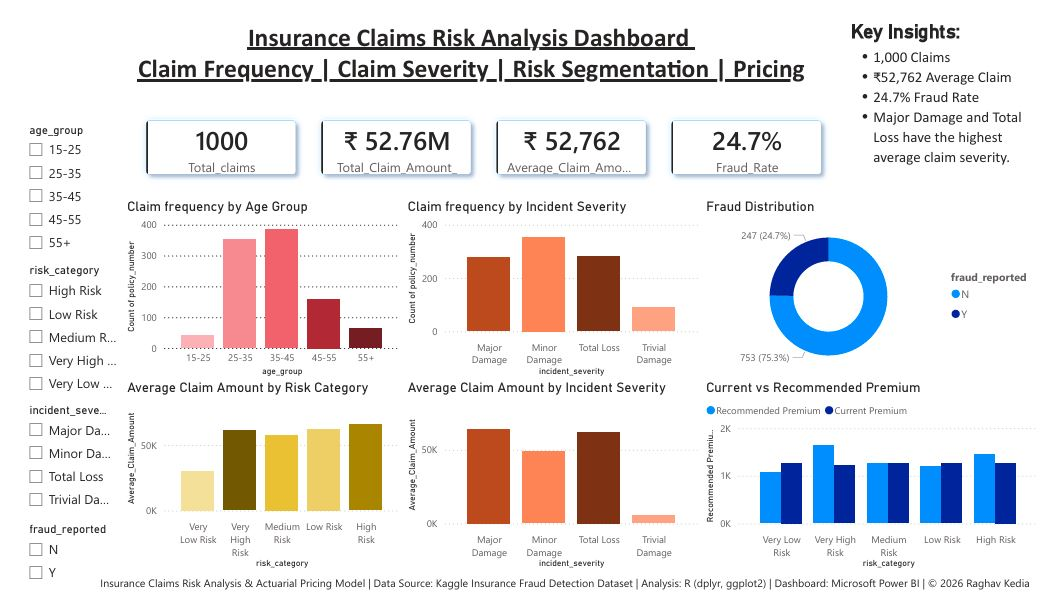

This screenshot's page, from the dashboard's own definition file:
{"tool":"powerbi","page":{"name":"Page 1","canvas":[1280,720],"ordinal":0},"visuals":[{"type":"cardVisual","fields":{"Data":["insurance_claims_final.Total_claims","insurance_claims_final.Total_Claim_Amount_","insurance_claims_final.Average_Claim_Amount","insurance_claims_final.Fraud_Rate"]},"box":[130.1,98.7,903.9,125.9],"z":0},{"type":"clusteredColumnChart","title":"Claim frequency by Age Group","fields":{"Category":["insurance_claims_final.age_group"],"Y":["CountNonNull(insurance_claims_final.policy_number)"]},"box":[130.1,224.5,350.4,226],"z":1000},{"type":"clusteredColumnChart","title":"Claim frequency by Incident Severity","fields":{"Category":["insurance_claims_final.incident_severity"],"Y":["CountNonNull(insurance_claims_final.policy_number)"]},"box":[480.5,224.5,373.3,226],"z":2000},{"type":"clusteredColumnChart","title":"Average Claim Amount by Incident Severity","fields":{"Y":["insurance_claims_final.Average_Claim_Amount"],"Category":["insurance_claims_final.incident_severity"]},"box":[480.5,450.5,373.3,240.3],"z":3000},{"type":"clusteredColumnChart","title":"Average Claim Amount by Risk Category","fields":{"Category":["insurance_claims_final.risk_category"],"Y":["insurance_claims_final.Average_Claim_Amount"]},"box":[130.1,450.5,350.4,240.3],"z":4000},{"type":"clusteredColumnChart","title":"Current vs Recommended Premium","fields":{"Category":["insurance_claims_final.risk_category"],"Y":["insurance_claims_final.Average_recom_premium","Avg(insurance_claims_final.policy_annual_premium)"]},"box":[853.8,450.5,426.2,240.3],"z":5000},{"type":"donutChart","title":"Fraud Distribution","fields":{"Category":["insurance_claims_final.fraud_reported"],"Y":["CountNonNull(insurance_claims_final.policy_number)"]},"box":[853.8,224.5,426.2,226],"z":6000},{"type":"slicer","fields":{"Values":["insurance_claims_final.age_group"]},"box":[0,125.9,130.1,175.9],"z":7000},{"type":"slicer","fields":{"Values":["insurance_claims_final.risk_category"]},"box":[0,301.8,130.1,174.5],"z":8000},{"type":"slicer","fields":{"Values":["insurance_claims_final.incident_severity"]},"box":[0,476.2,130.1,148.7],"z":9000},{"type":"slicer","fields":{"Values":["insurance_claims_final.fraud_reported"]},"box":[0,625,130.1,94.4],"z":10000},{"type":"textbox","box":[130.1,0,871,98.7],"z":11000},{"type":"textbox","title":"Key Insights:","box":[1034.7,2.7,245.3,190.7],"z":11001},{"type":"textbox","box":[85.3,690.7,1194.7,29.3],"z":11002}]}

Visuals, with their boxes in screenshot pixels (x1, y1, x2, y2), scaled from the page's 1280x720 canvas onto the 1058x612 screenshot:
cardVisual - insurance_claims_final.Total_claims x insurance_claims_final.Total_Claim_Amount_: bbox(108, 84, 855, 191)
"Claim frequency by Age Group" clusteredColumnChart: bbox(108, 191, 397, 383)
"Claim frequency by Incident Severity" clusteredColumnChart: bbox(397, 191, 706, 383)
"Average Claim Amount by Incident Severity" clusteredColumnChart: bbox(397, 383, 706, 587)
"Average Claim Amount by Risk Category" clusteredColumnChart: bbox(108, 383, 397, 587)
"Current vs Recommended Premium" clusteredColumnChart: bbox(706, 383, 1057, 587)
"Fraud Distribution" donutChart: bbox(706, 191, 1057, 383)
slicer - insurance_claims_final.age_group: bbox(0, 107, 108, 257)
slicer - insurance_claims_final.risk_category: bbox(0, 257, 108, 405)
slicer - insurance_claims_final.incident_severity: bbox(0, 405, 108, 531)
slicer - insurance_claims_final.fraud_reported: bbox(0, 531, 108, 611)
textbox: bbox(108, 0, 827, 84)
"Key Insights:" textbox: bbox(855, 2, 1057, 164)
textbox: bbox(71, 587, 1057, 611)
